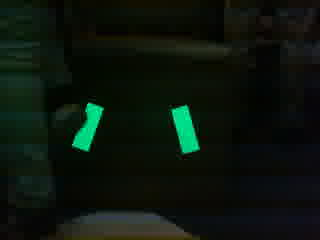target: (69, 102, 201, 155)
